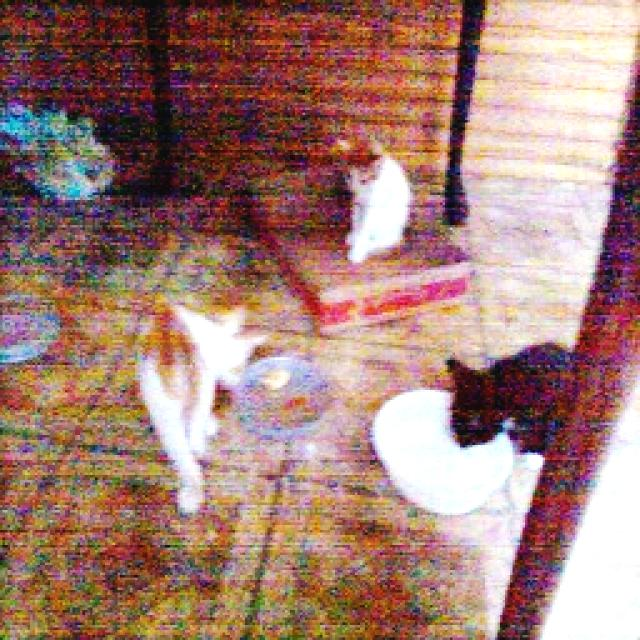cat: (132, 291, 270, 511), (439, 340, 576, 469), (333, 134, 415, 264)
